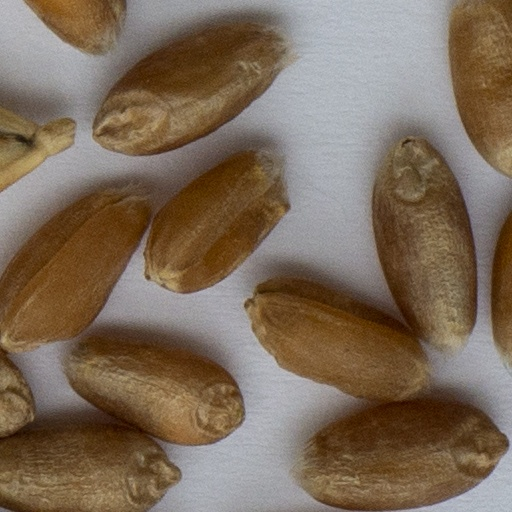Peel-poly: (0, 106, 74, 192)
